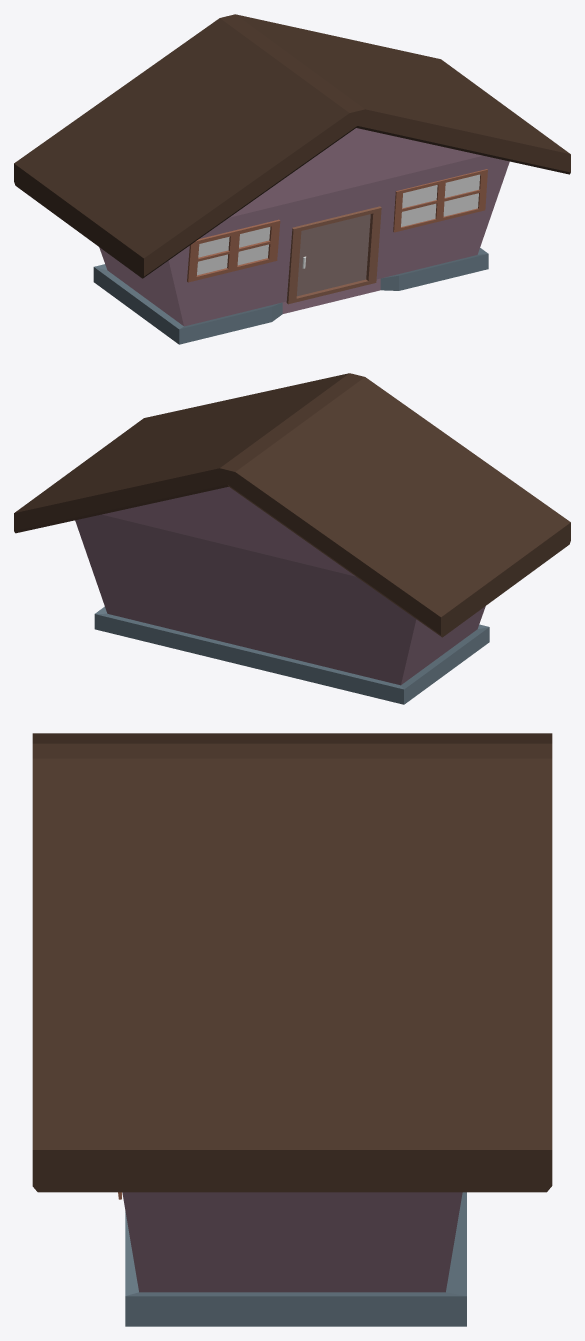
The model's file is HOUSE WIDE (PURPLE).fbx.
The picture shows the model from 3 angles, top to bottom: view 1: azimuth 30°, elevation 25°; view 2: azimuth 150°, elevation 25°; view 3: azimuth 270°, elevation 25°; orthographic projection. The views are drawn at different scales.
Visible parts, largest first — view 1: Roof, House, Front Windows, Door; view 2: Roof, House; view 3: Roof, House.
Part boxes in pixels (bbox=[...]): Roof: bbox=[14, 14, 570, 278]; House: bbox=[93, 128, 509, 344]; Front Windows: bbox=[187, 169, 487, 282]; Door: bbox=[286, 206, 381, 304]; Roof: bbox=[14, 373, 570, 637]; House: bbox=[75, 487, 489, 704]; Roof: bbox=[32, 733, 552, 1192]; House: bbox=[122, 1192, 466, 1326].
Bounding box in the file's own units: 2145 × 1020 × 1130.
